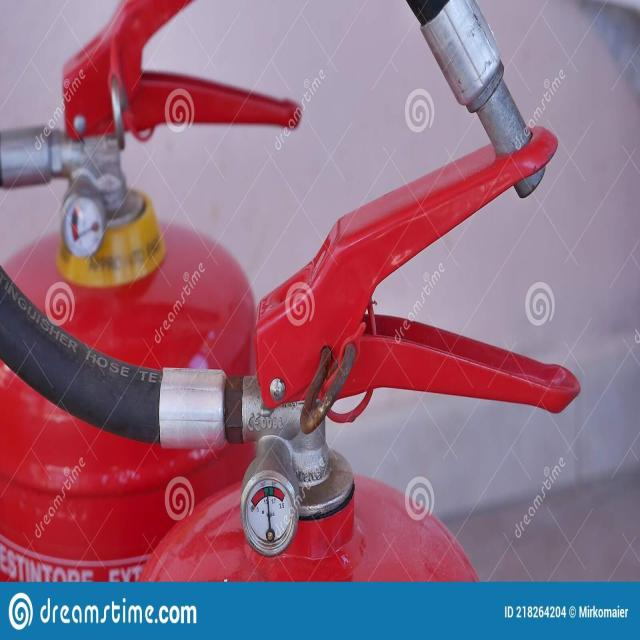fire_extinguisher: (136, 119, 584, 582), (0, 1, 308, 581)
